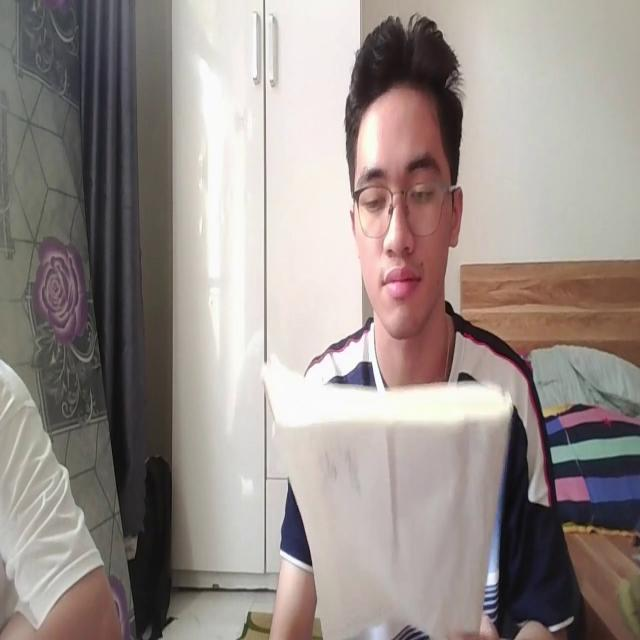book: (259, 339, 511, 640)
student: (262, 9, 576, 640)
